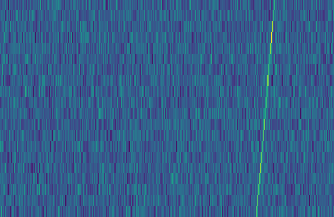signal: (253, 0, 281, 217)
